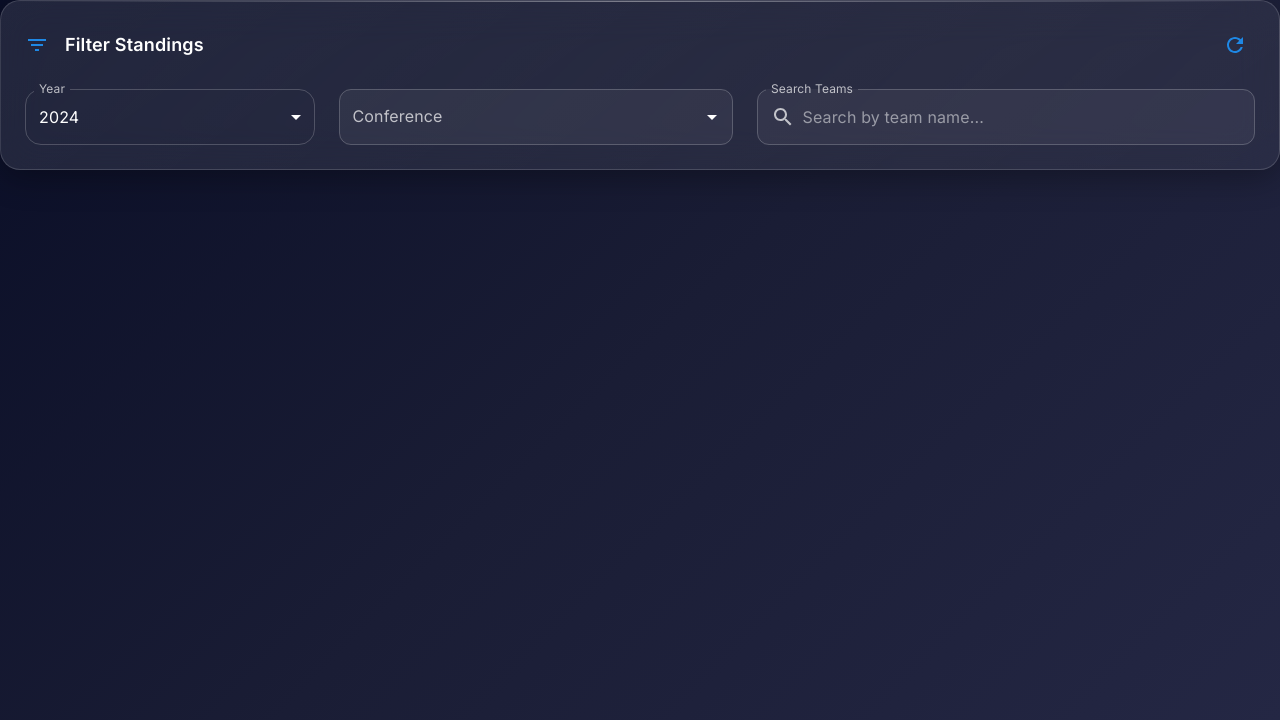
Test case: StandingsFilters › displays available conferences in conference autocomplete
// Click on conference autocomplete
Click the dropdown labelled "Conference" at (520, 117), box [348,98,694,136]
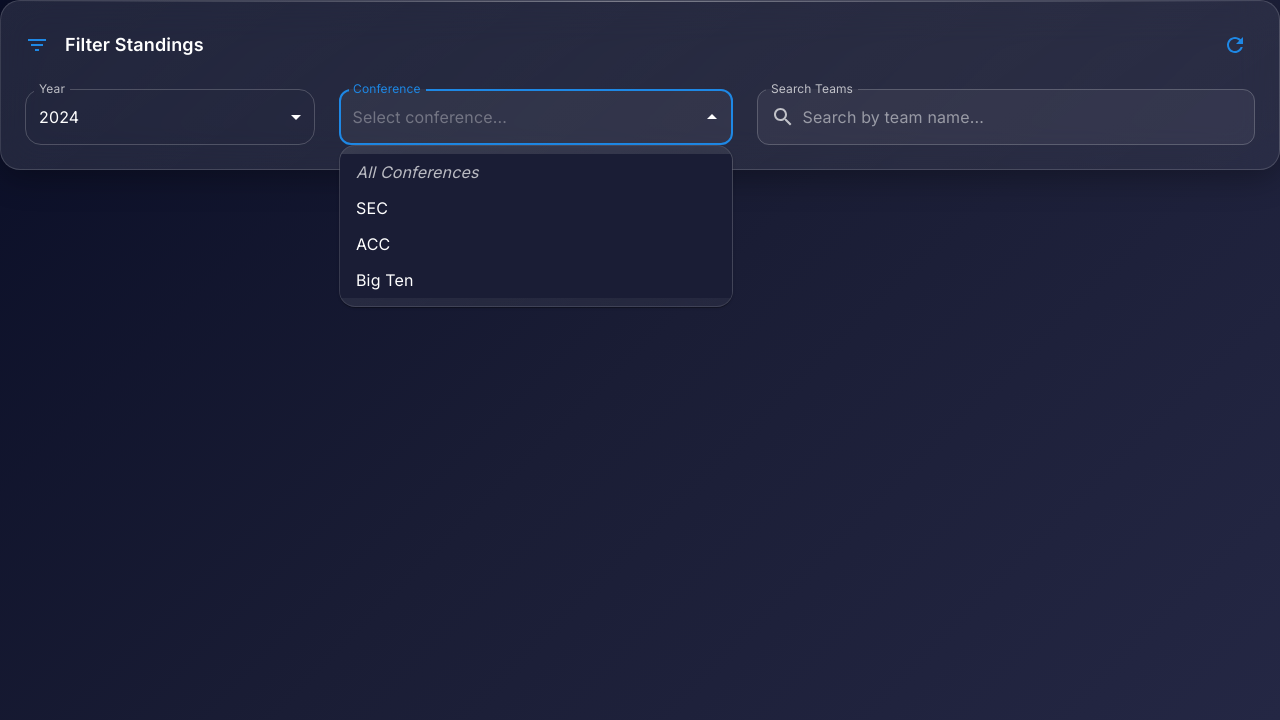
Expected: the text "All Conferences" is shown, [356,160,478,184]
Expected: the option "SEC" is shown, [340,190,732,226]
Expected: the option "ACC" is shown, [340,226,732,262]
